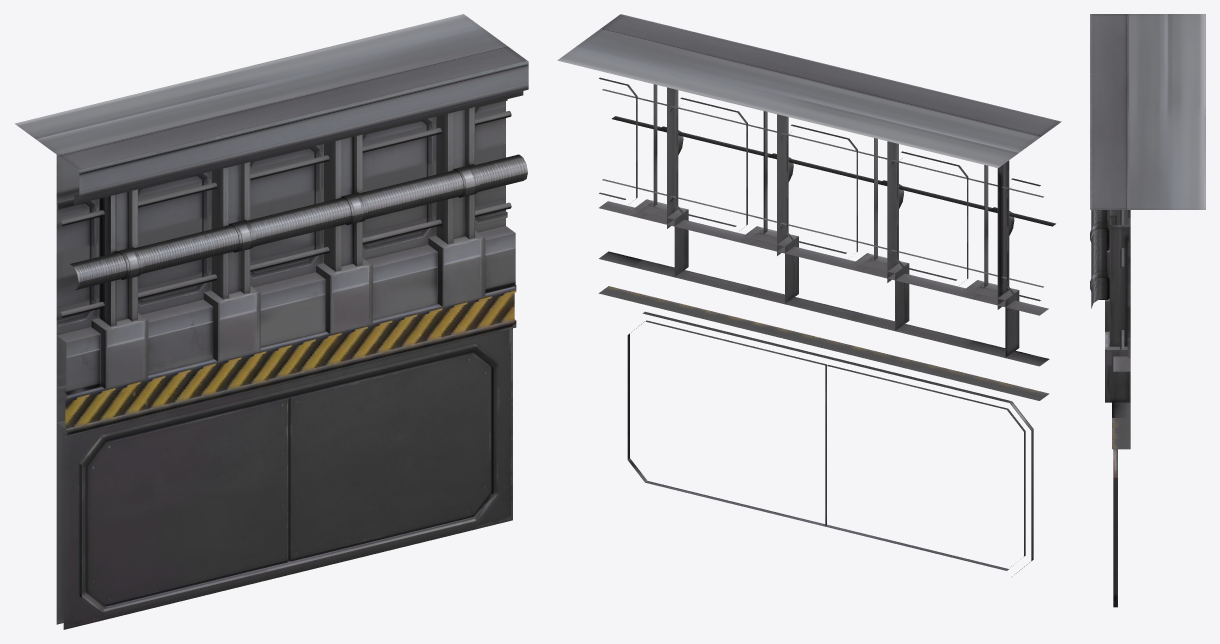
Rendered from kit_wall_low.glb.
The picture shows the model from 3 angles, left to right: view 1: azimuth 30°, elevation 25°; view 2: azimuth 150°, elevation 25°; view 3: azimuth 270°, elevation 25°; orthographic projection. The views are drawn at different scales.
Parts seen in each view (by area): view 1: kit_wall_low.001; view 2: kit_wall_low.001; view 3: kit_wall_low.001.
Boxes of the visible parts, x1,y1,x2,y2 form: kit_wall_low.001: (15, 14, 528, 629); kit_wall_low.001: (557, 14, 1061, 576); kit_wall_low.001: (1090, 14, 1205, 607).
Size of the model in its own units: 4 by 4 by 1.
4 materials, 4 textured.
